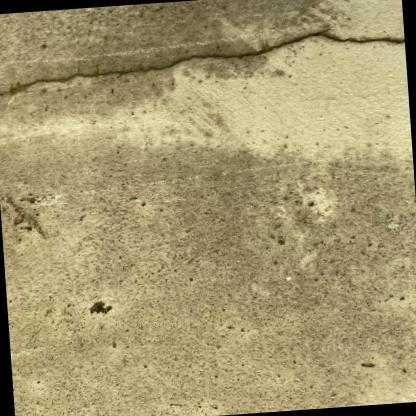crack: (0, 31, 405, 98)
